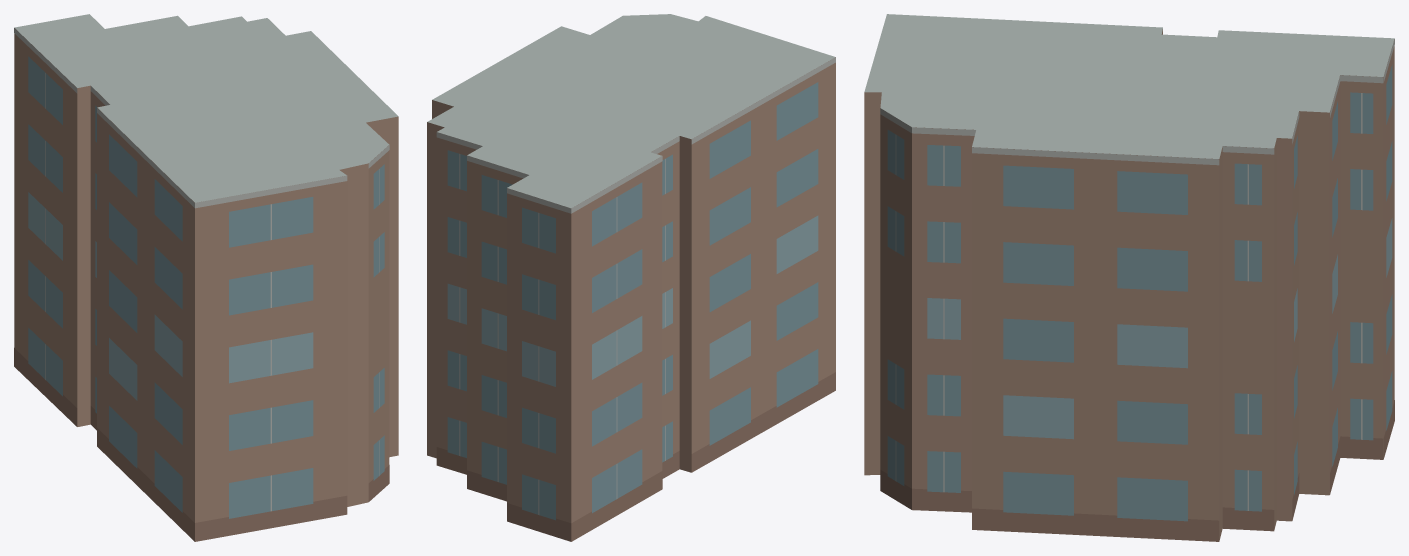
Rendered from survey-upis-33014806.glb.
The picture shows the model from 3 angles, left to right: view 1: azimuth 30°, elevation 25°; view 2: azimuth 150°, elevation 25°; view 3: azimuth 270°, elevation 25°; orthographic projection. The views are drawn at different scales.
Parts seen in each view (by area): view 1: survey-upis-33014806.tmp; view 2: survey-upis-33014806.tmp; view 3: survey-upis-33014806.tmp.
Boxes of the visible parts, x1=… form: survey-upis-33014806.tmp: x1=14, y1=14, x2=398, y2=541; survey-upis-33014806.tmp: x1=427, y1=14, x2=835, y2=541; survey-upis-33014806.tmp: x1=864, y1=14, x2=1394, y2=541.
Bounding box in the file's own units: 12.28 × 15.1 × 18.98.
